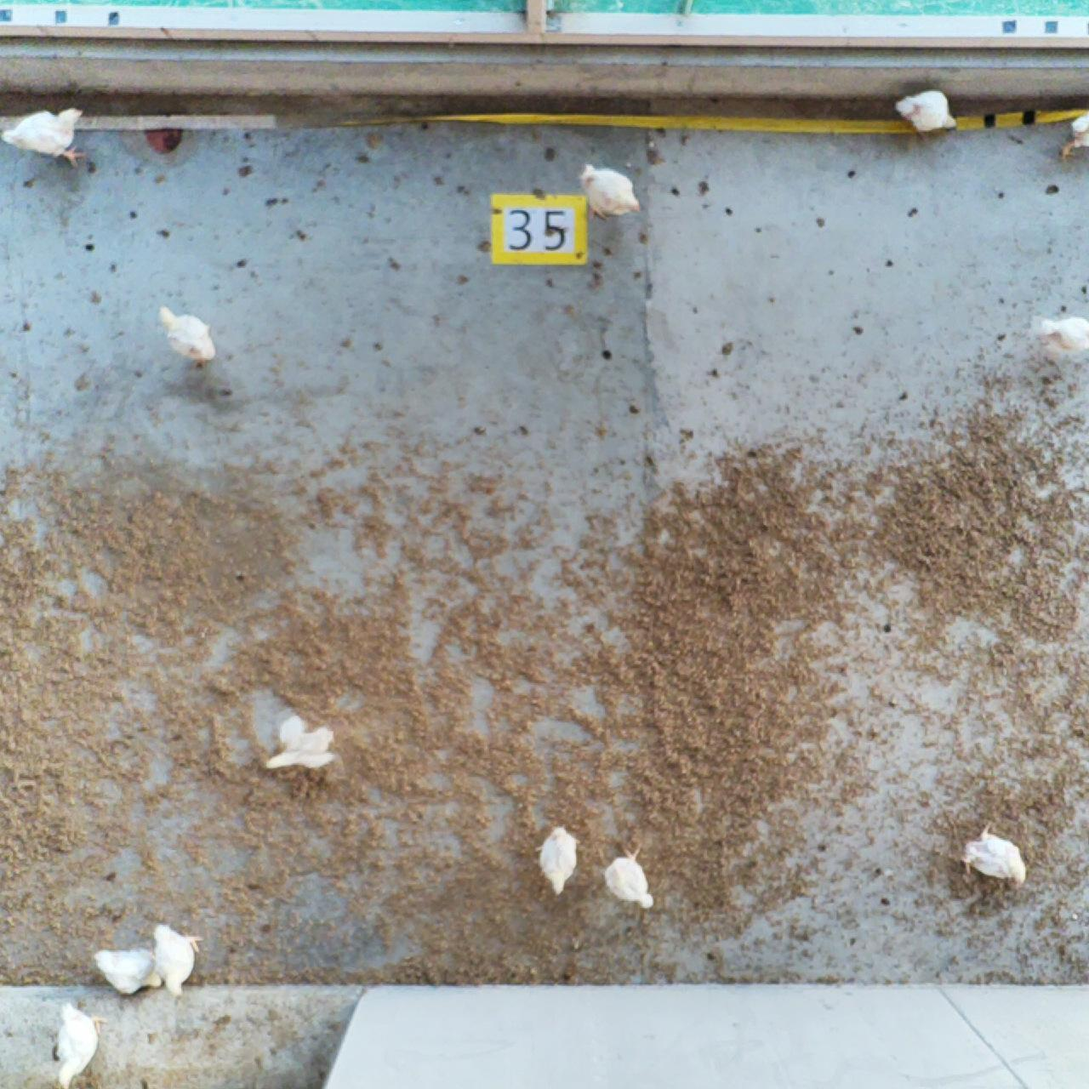chicken: (2, 107, 87, 169), (962, 821, 1028, 891), (55, 1002, 107, 1089), (267, 716, 334, 772), (153, 925, 203, 995), (157, 308, 215, 368), (582, 163, 641, 221), (94, 947, 162, 997), (602, 846, 655, 910), (534, 825, 581, 894), (894, 88, 958, 135), (1036, 315, 1087, 355), (1059, 114, 1089, 156)
